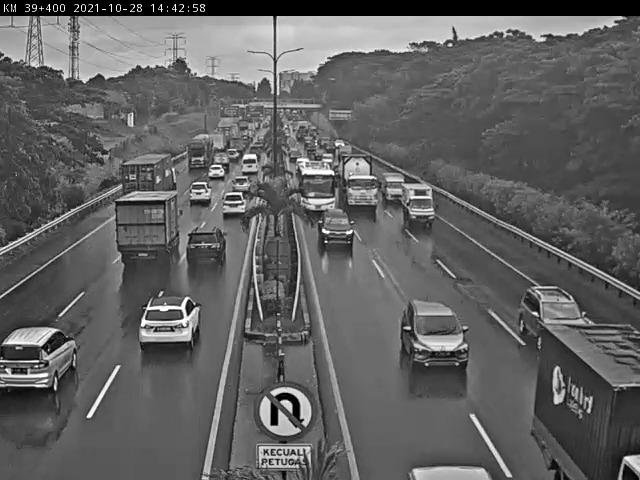big bus: (296, 160, 337, 217)
big truck: (115, 189, 183, 265), (121, 155, 178, 210), (336, 151, 379, 211)
car: (0, 325, 78, 394), (401, 298, 472, 370), (517, 286, 593, 353), (136, 296, 204, 353), (184, 225, 227, 267), (318, 209, 356, 252), (223, 191, 246, 216), (188, 181, 210, 206)
small truck: (402, 183, 437, 230), (383, 172, 406, 205)
